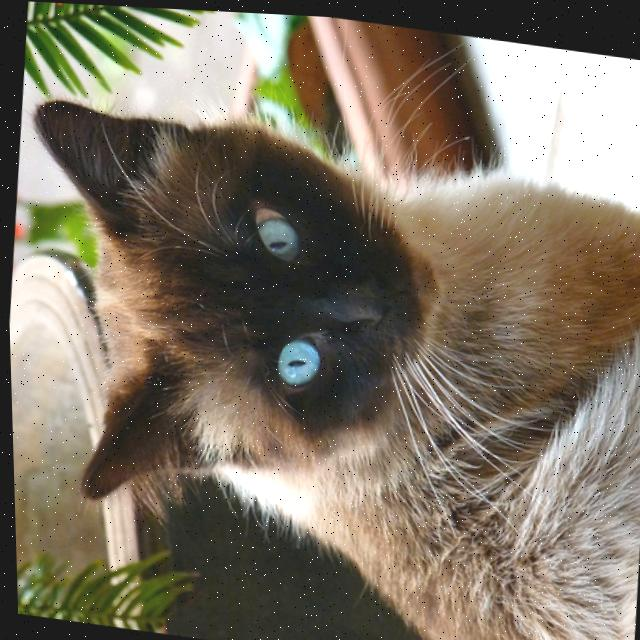Siamese: (2, 87, 640, 640)
